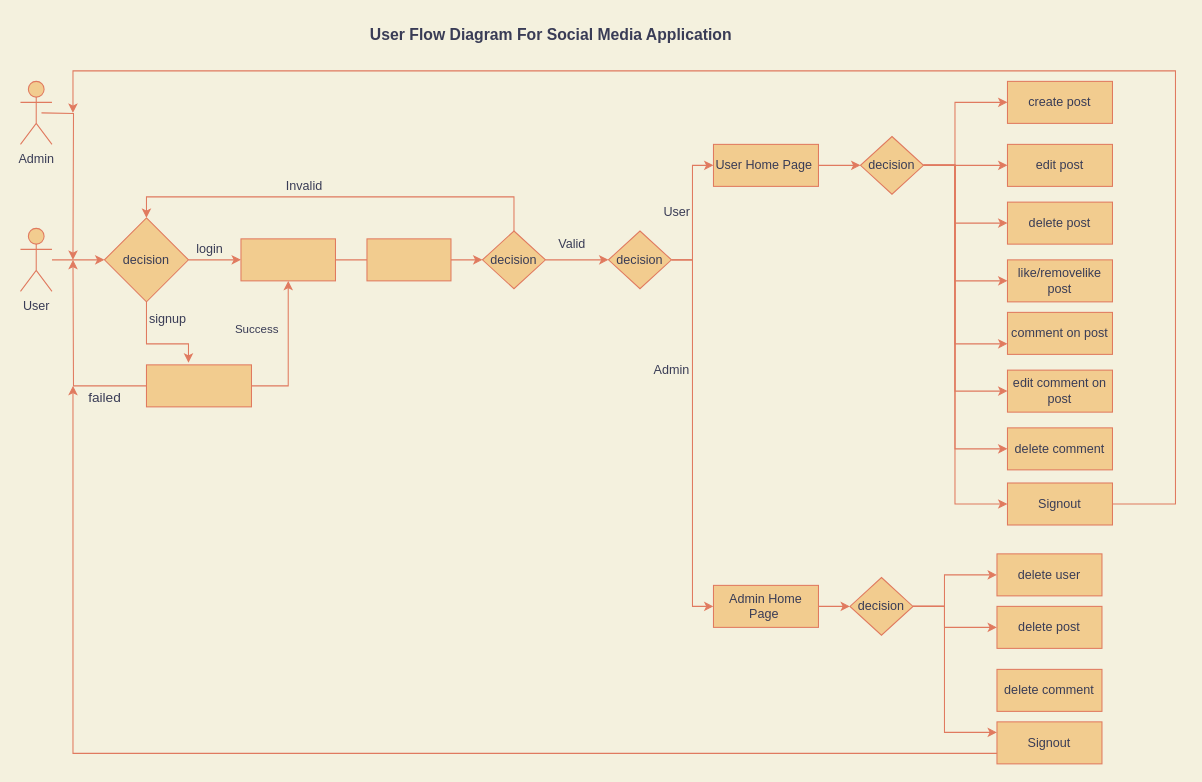
The diagram is 1202 pixels wide and 782 high, and some of its shapes have lost their labels. Here are the shapes that lost their labels. From the top down, the box of each, then its label:
(240, 238, 335, 281): Enter Credential
(366, 238, 451, 281): Validate credential
(145, 364, 251, 407): Registration
